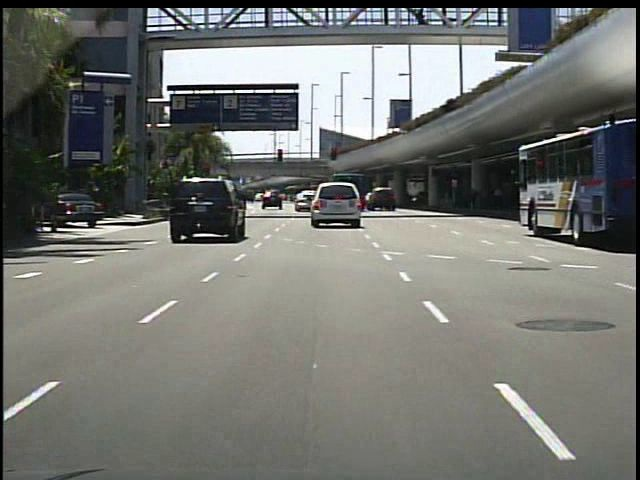person: (412, 8, 430, 36)
